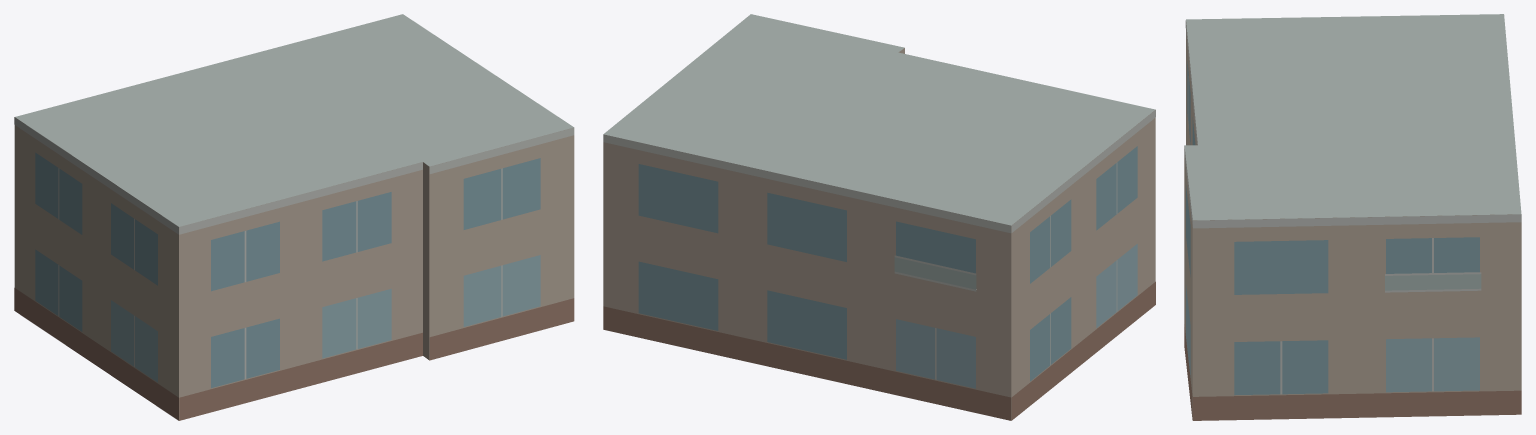
The model's file is survey-upis-32946156.glb.
The picture shows the model from 3 angles, left to right: view 1: azimuth 30°, elevation 25°; view 2: azimuth 150°, elevation 25°; view 3: azimuth 270°, elevation 25°; orthographic projection. The views are drawn at different scales.
Parts seen in each view (by area): view 1: survey-upis-32946156.tmp; view 2: survey-upis-32946156.tmp; view 3: survey-upis-32946156.tmp.
Boxes of the visible parts, bbox=[...] form: survey-upis-32946156.tmp: bbox=[14, 14, 574, 420]; survey-upis-32946156.tmp: bbox=[603, 14, 1155, 420]; survey-upis-32946156.tmp: bbox=[1184, 14, 1521, 420].
Size of the model in its own units: 13.48 by 6.1 by 9.31.
